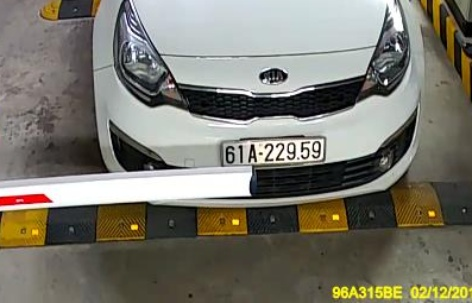plate: (218, 135, 330, 168)
